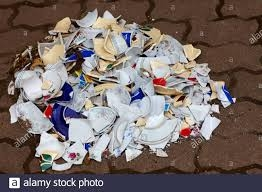glass: (140, 112, 178, 144), (55, 139, 88, 169), (152, 80, 185, 96), (180, 41, 204, 61), (115, 118, 131, 143), (125, 146, 143, 164), (155, 146, 169, 159)
paper: (17, 101, 56, 136), (32, 131, 67, 161), (208, 76, 238, 110), (12, 68, 43, 100), (36, 34, 67, 65), (92, 29, 118, 64), (86, 105, 117, 134), (86, 131, 112, 164), (195, 113, 224, 141), (102, 80, 133, 105), (140, 22, 164, 45), (75, 5, 100, 27), (49, 14, 73, 36), (146, 57, 171, 78), (192, 59, 212, 77), (50, 159, 75, 172)
